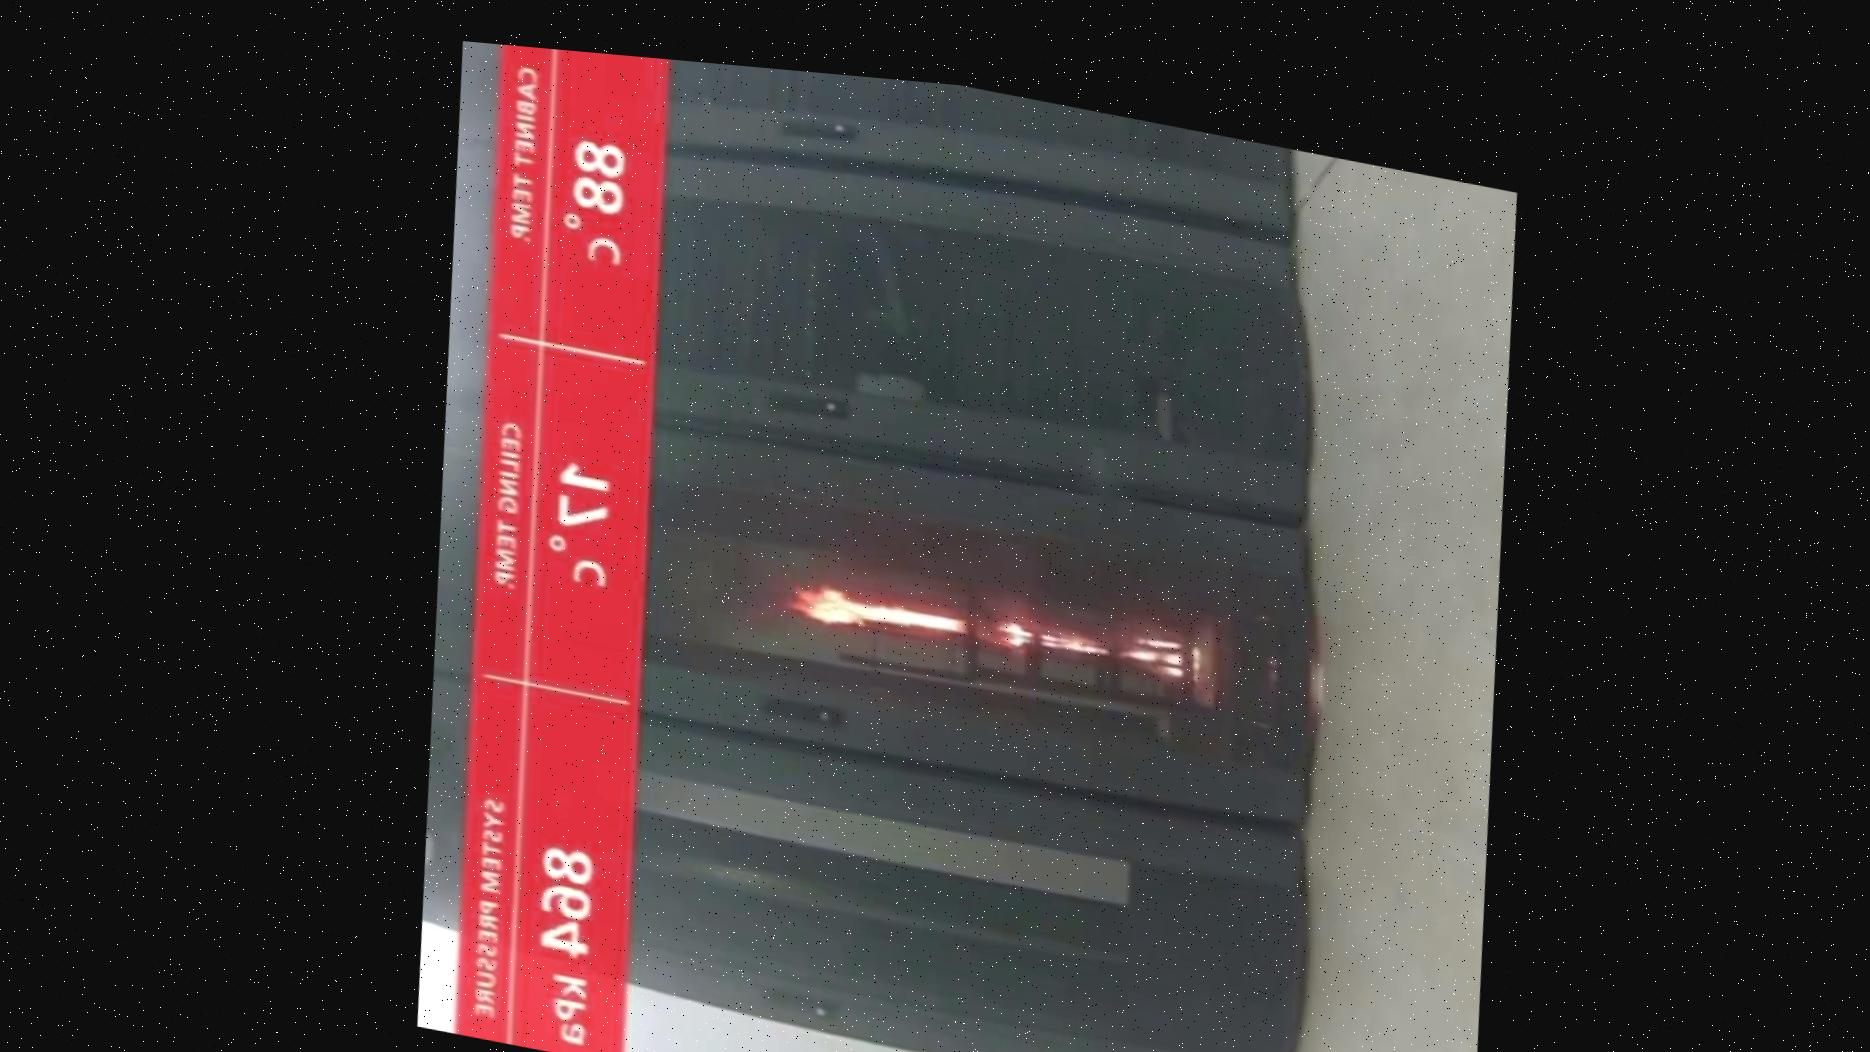fire: (683, 552, 1289, 744)
